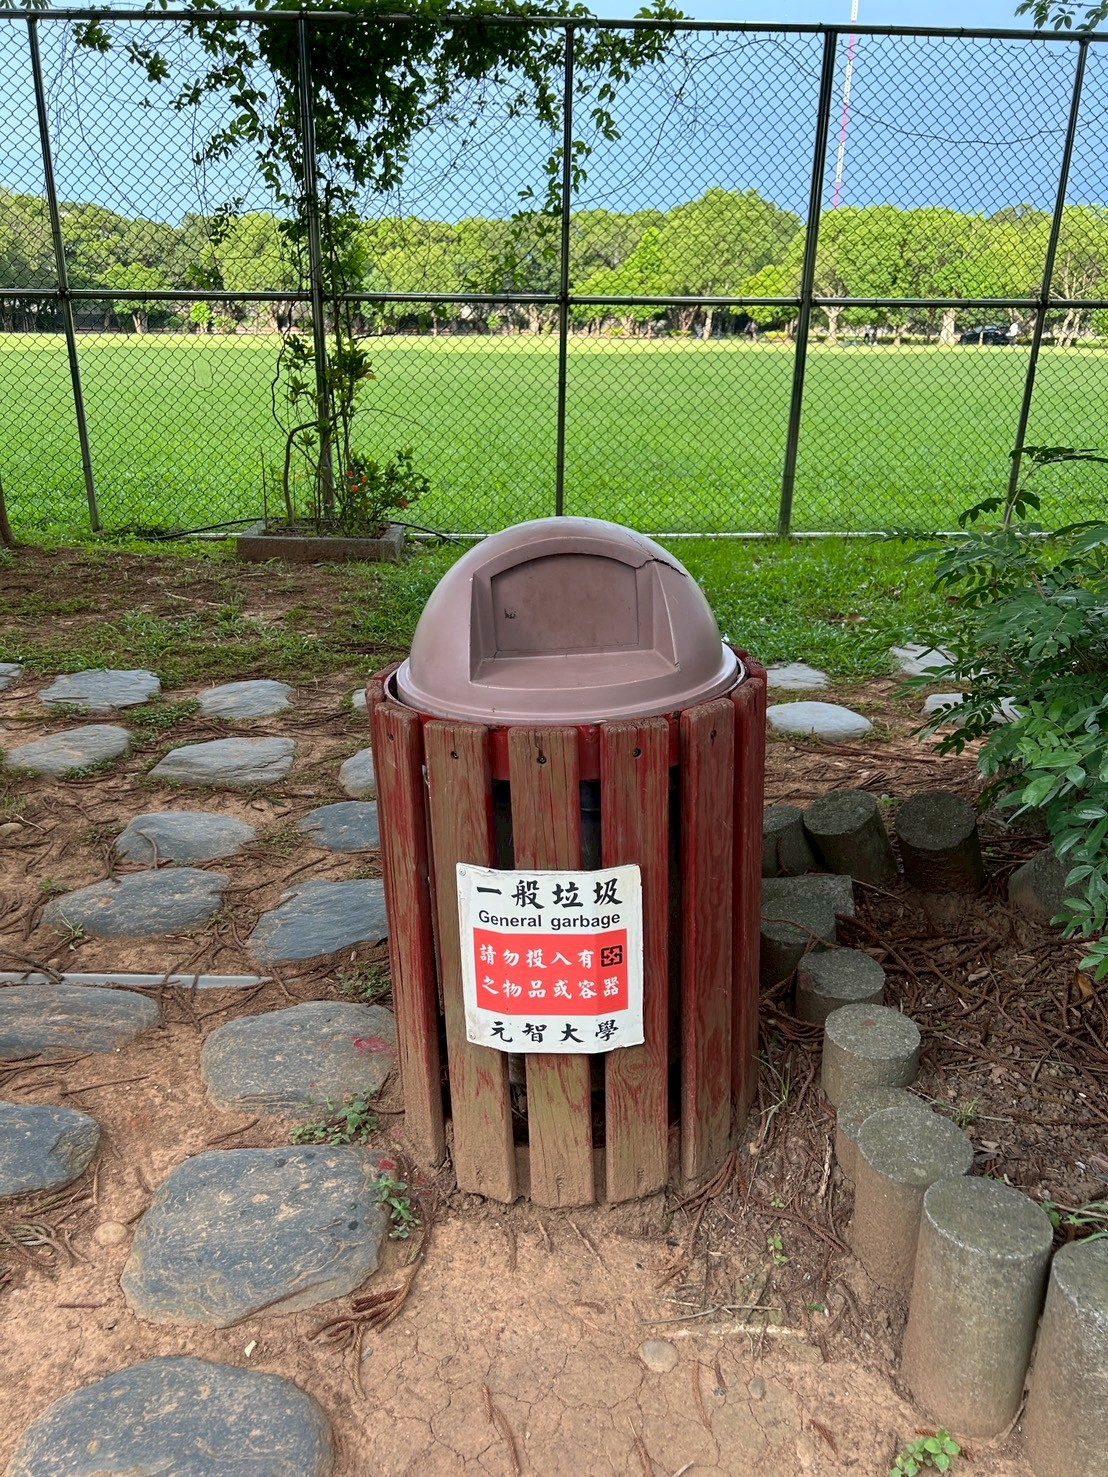normal_bin: (348, 511, 783, 1224)
